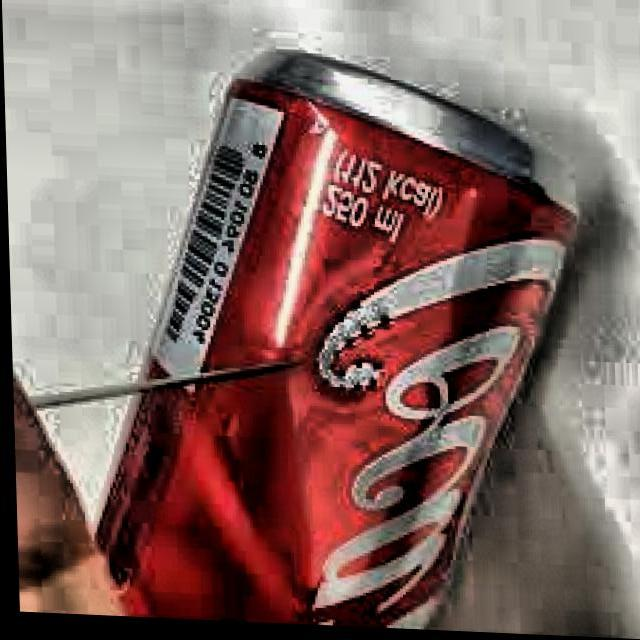Aluminum Can: (58, 28, 595, 638)
